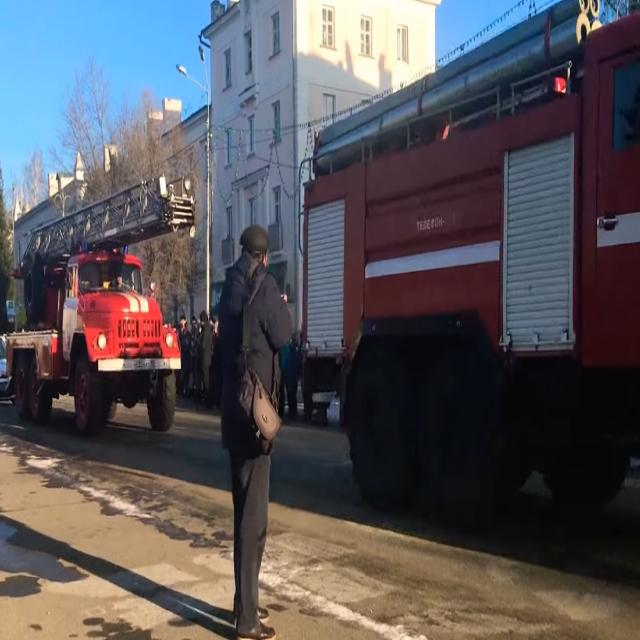fire fighting vehicle: (301, 4, 640, 536), (6, 171, 193, 438)
